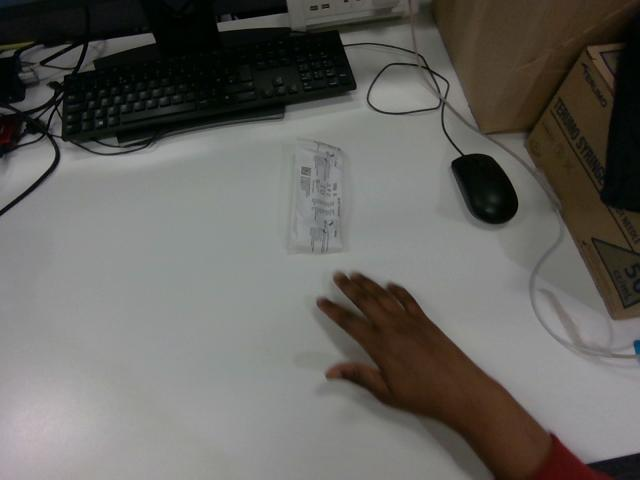syringe: (287, 140, 342, 253)
